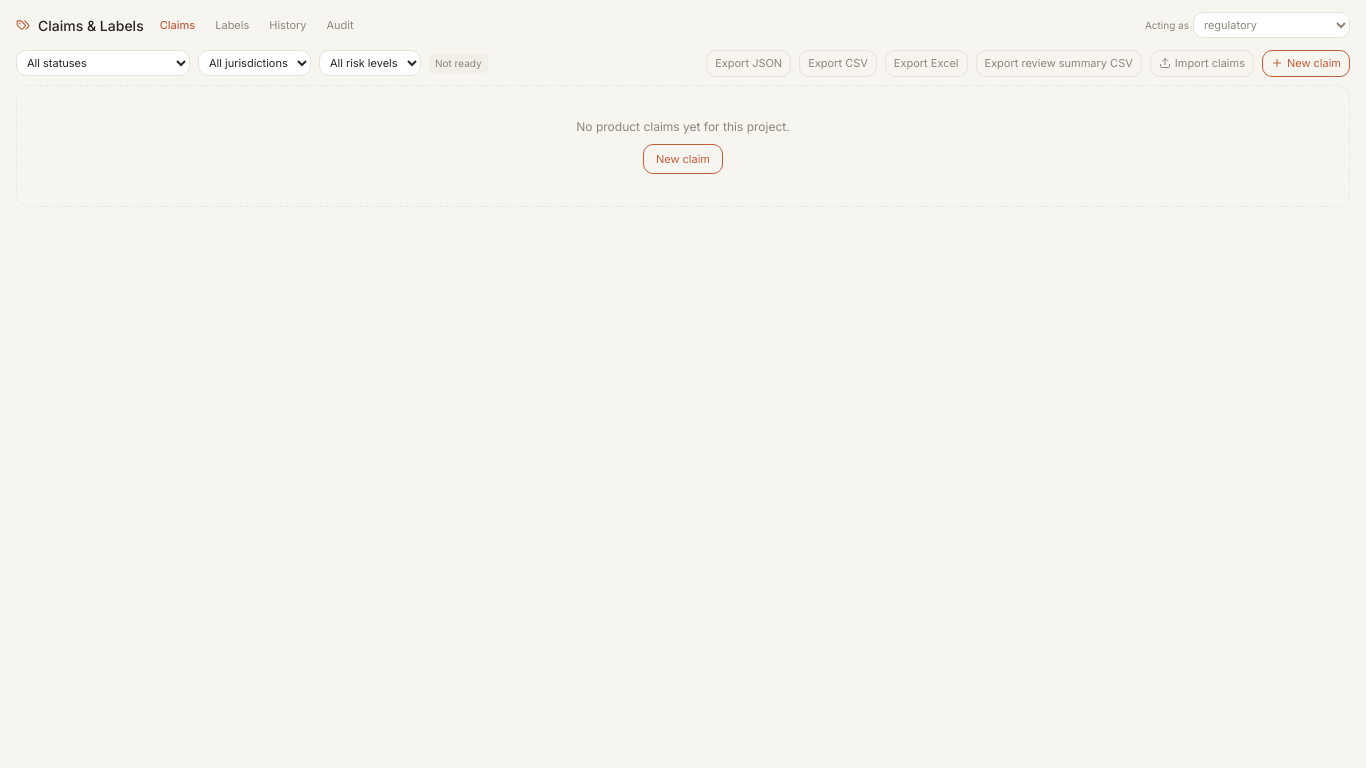
ClaimsLabelsPanel — claims import/export › previews and imports JSON claim rows as draft, unreviewed claims
Click the button "Import claims" at [1202, 63], box [1150,50,1254,76]
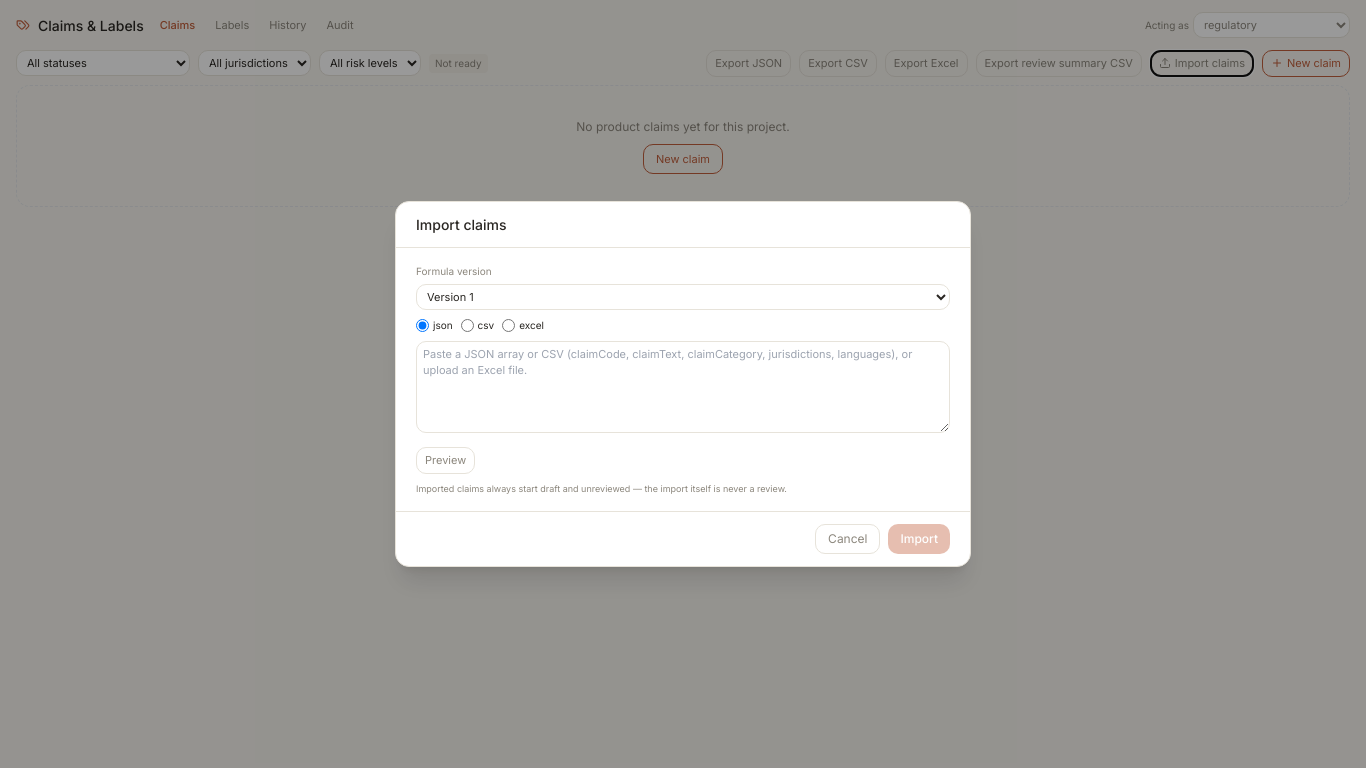
Select "Version 1" in the dropdown labelled "Formula version" at [683, 297], box [416,284,950,310]
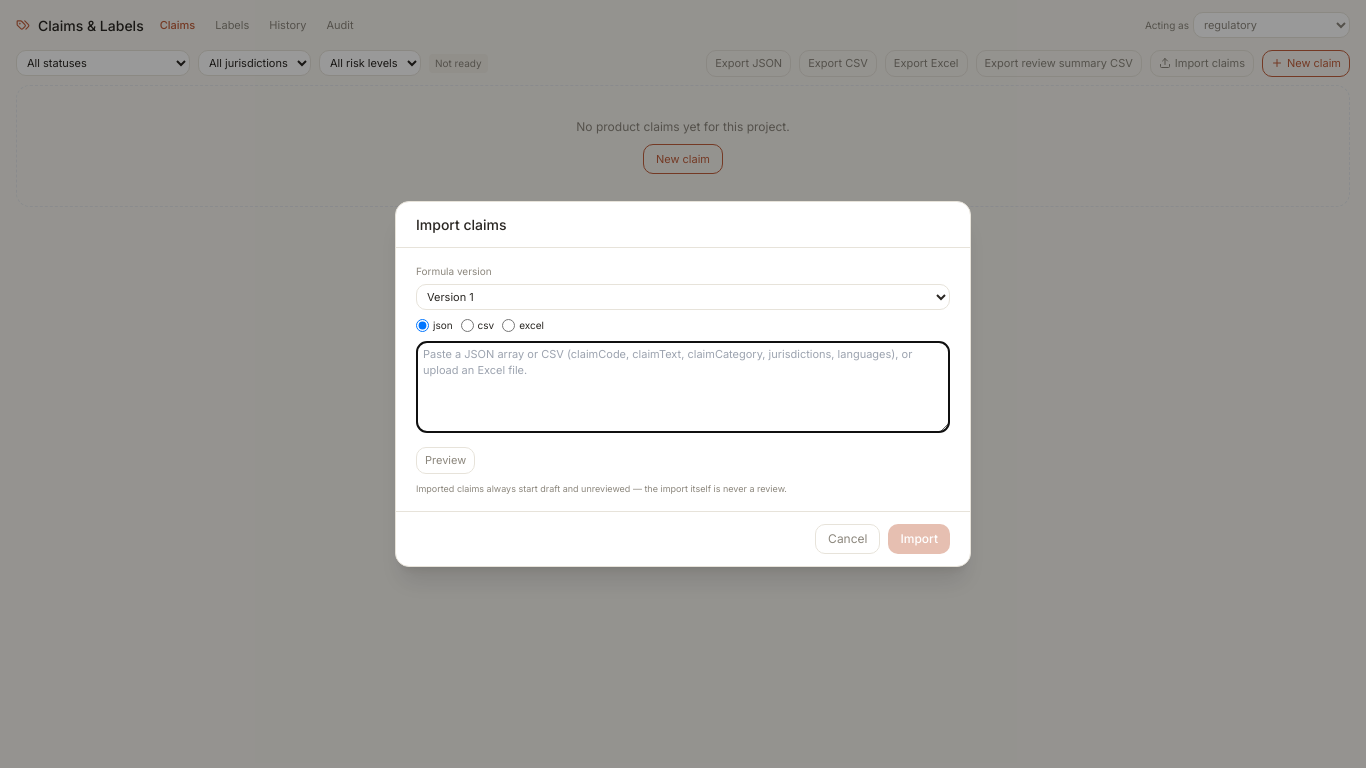
Type keys "[{\"claimCode\": \"CLM-IMPORT-1\", \"claimText\": \"Gentle on skin\", \"jurisdictions\": \"KE\", \"languages\": \"en\"}]"
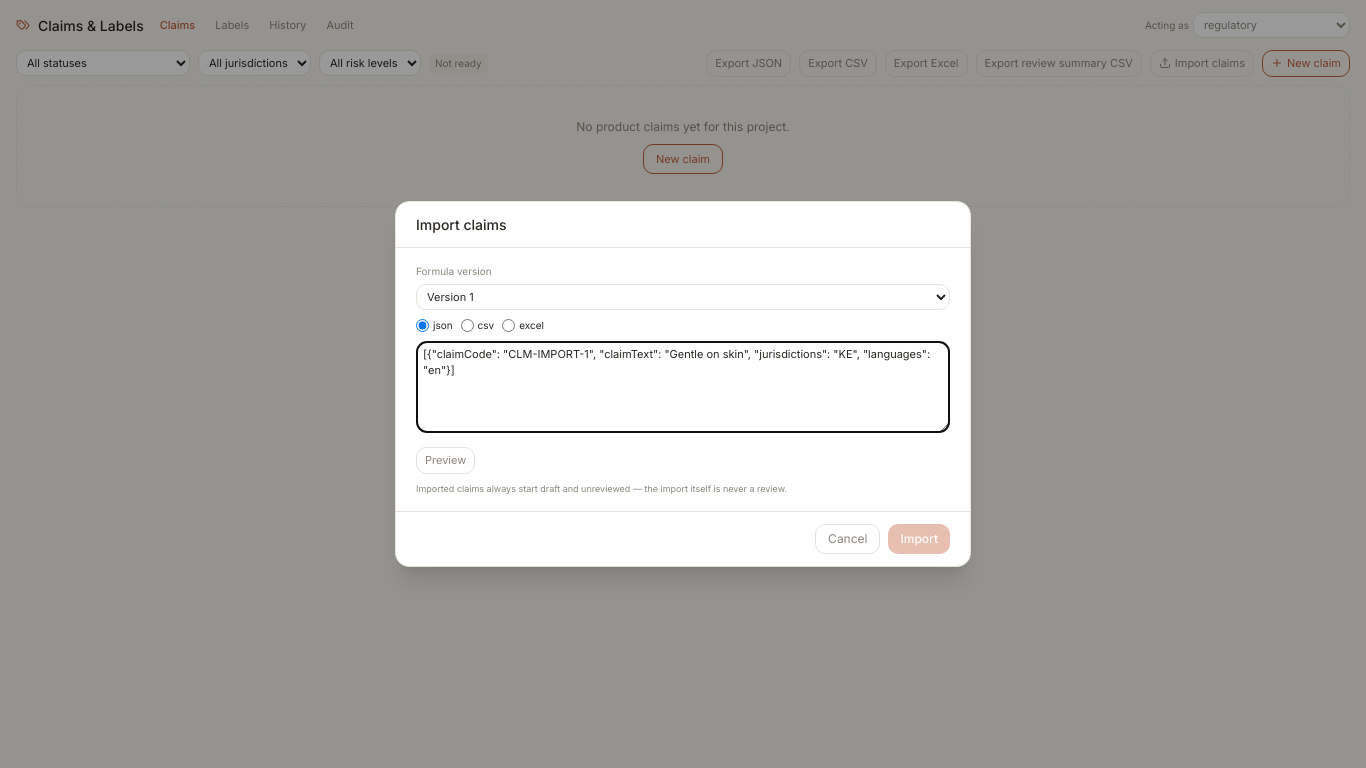
Click the button "Preview" at [446, 461], box [416,447,475,474]
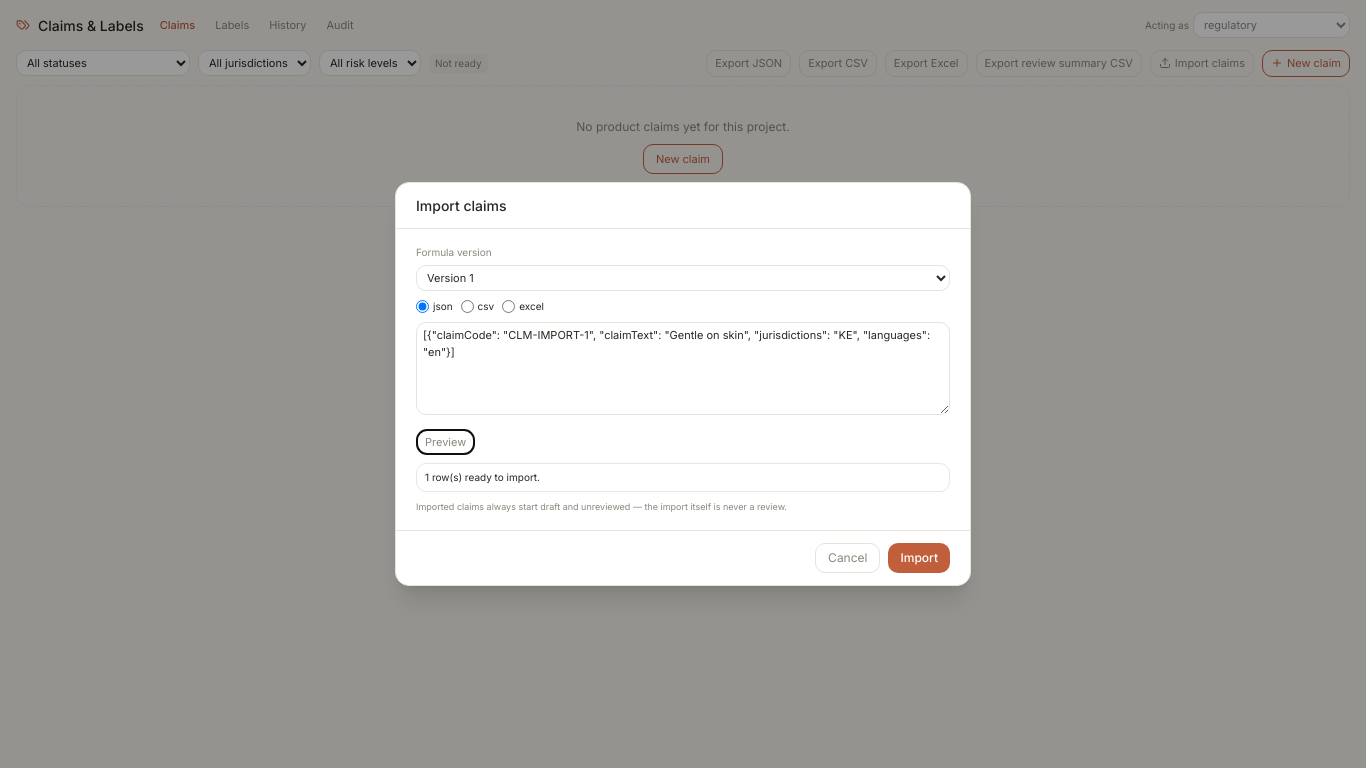
Expected: the text "1 row(s) ready to import." is shown, [425,471,540,483]
Click the button "Import" at [919, 558], box [888,543,950,573]
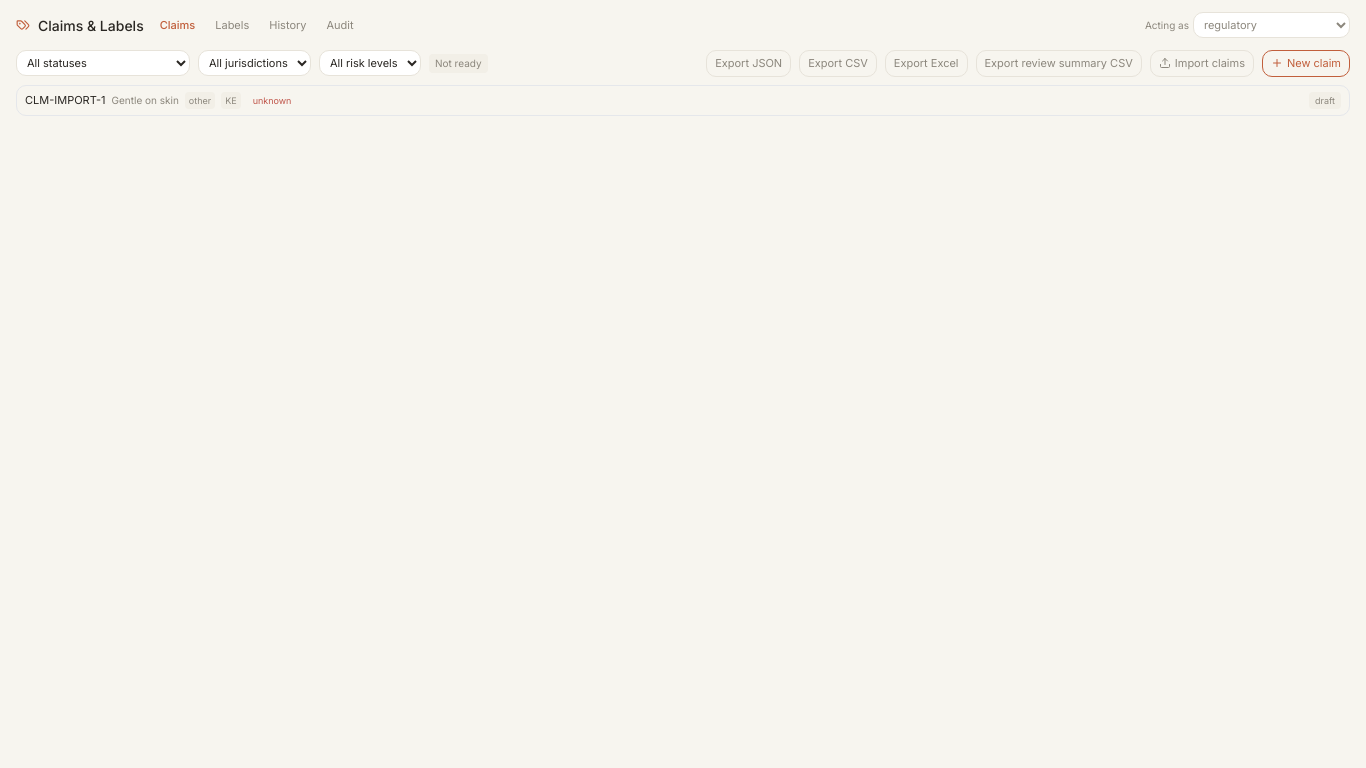
Expected: the text "CLM-IMPORT-1" is shown, [25,92,106,108]
